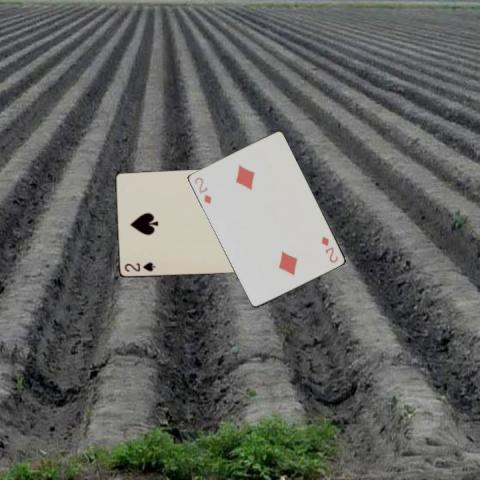2d: (192, 174, 213, 206), (319, 233, 339, 265)
2s: (121, 260, 157, 273)
